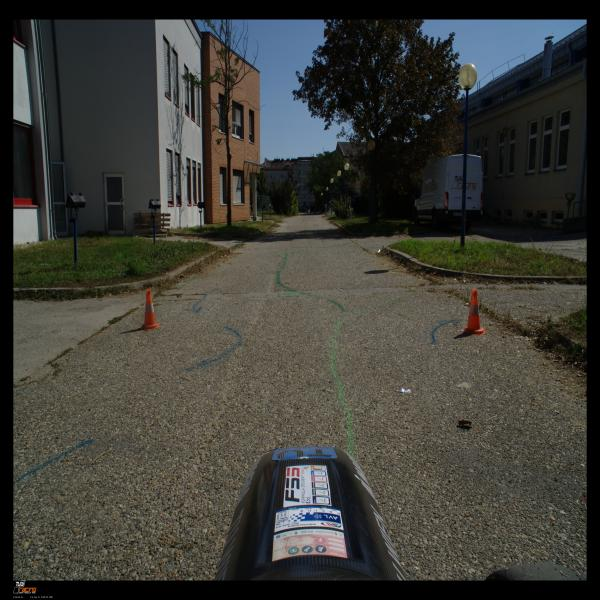orange_cone: (461, 290, 485, 335), (137, 289, 161, 331)
